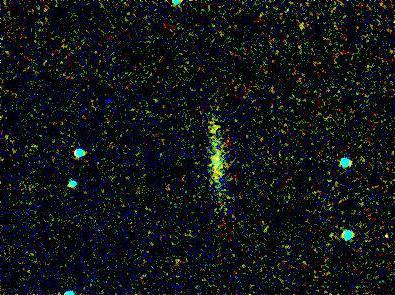star: (203, 111, 233, 141)
